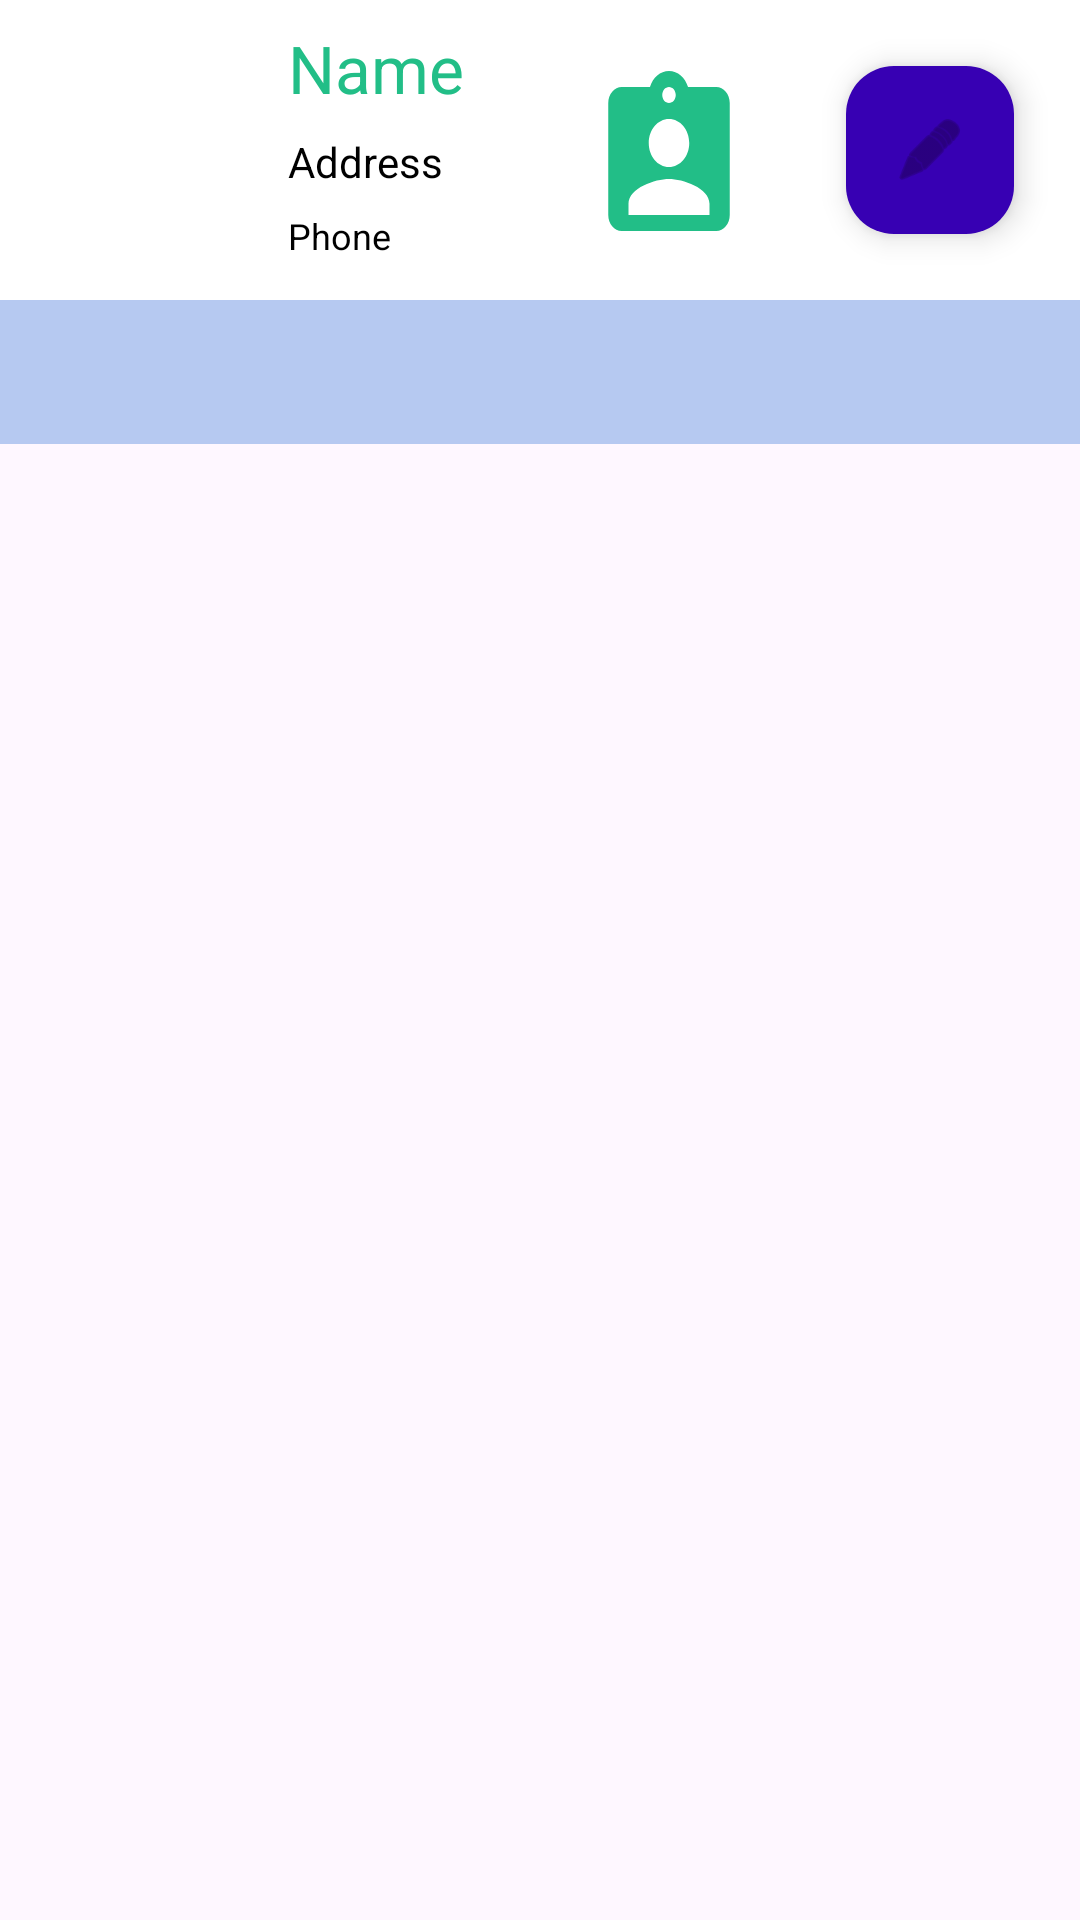

Icons on this 1080*1920 Android screen, each with the point to tap as point (x, y):
edit: point (930, 150)
